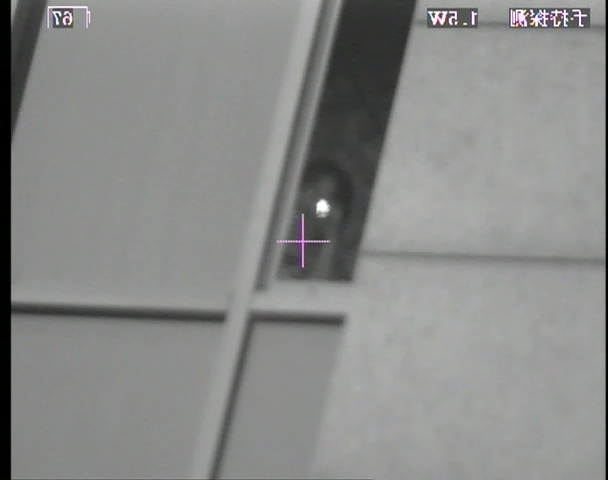my: (313, 197, 331, 218)
